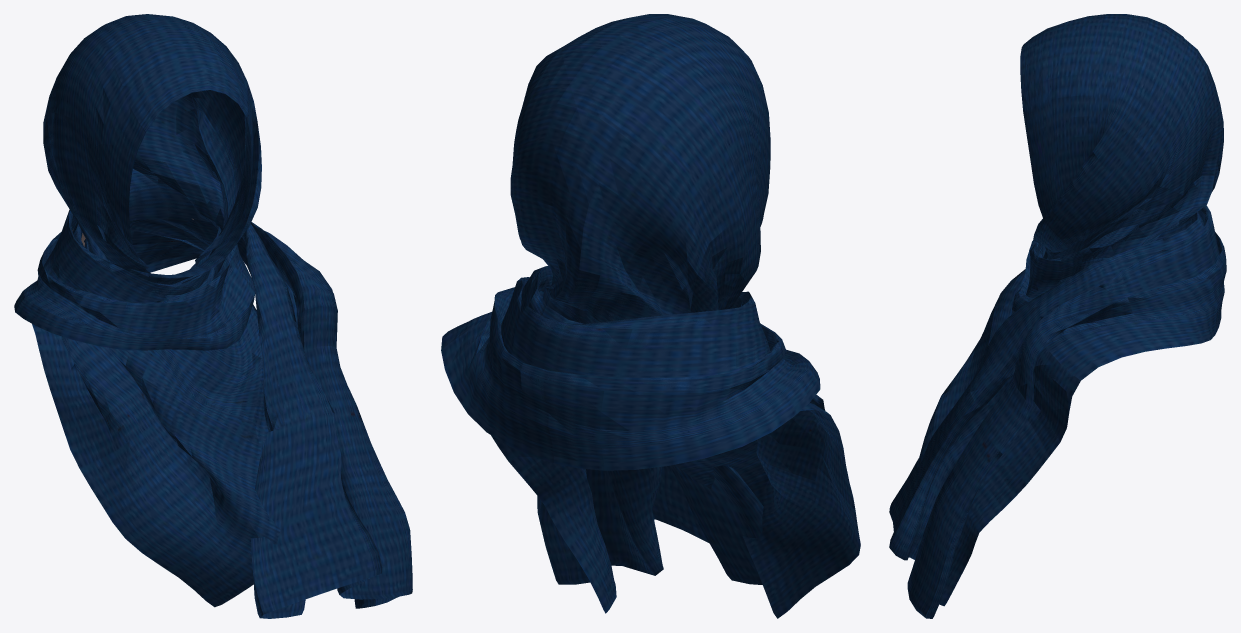
The model's file is scarf2.glb.
3 renders of one model, left to right at view 1: azimuth 30°, elevation 25°; view 2: azimuth 150°, elevation 25°; view 3: azimuth 270°, elevation 25°, orthographic. The views are drawn at different scales.
Parts seen in each view (by area): view 1: Object_2; view 2: Object_2; view 3: Object_2.
Part boxes in pixels (x1,y1,x2,y2): Object_2: (14,14,412,618); Object_2: (441,14,860,618); Object_2: (889,14,1226,618).
Bounding box in the file's own units: 3.49 × 6.07 × 3.51.
Materials: 1 (1 with a texture image).
